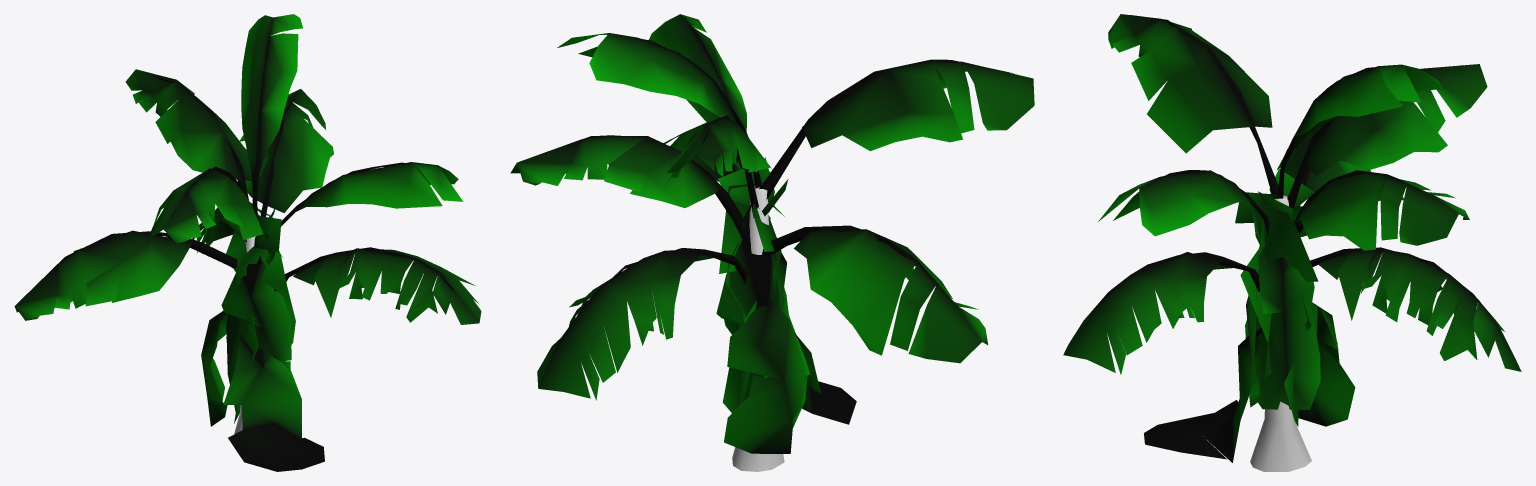
The model's file is BananaTree01_afsTREE_xlprl15_xlod02.fbx.
3 renders of one model, left to right at view 1: azimuth 30°, elevation 25°; view 2: azimuth 150°, elevation 25°; view 3: azimuth 270°, elevation 25°, orthographic. The views are drawn at different scales.
Parts seen in each view (by area): view 1: BananaLeaf_xw05_xt08_xlp04_xp05, DeadBananaLeaf_xw00_xt00_xlp00.003, DyingBranch_xw05_xt08_xlp05_xp05, BananaLeaf_xw10_xt08_xlp06_xp03, BananaLeaf_xw08_xt10_xlp05_xp06, BananaLeaf_xw08_xt08_xlp04, BananaLeaf_xw08_xt12_xlp05_xp09, BananaLeaf_xw07_xt10_xlp05_xp04, DeadBananaLeaf_xw00_xt00_xlp00.001, DeadBananaLeaf_xw00_xt00_xlp00.004, DeadBananaLeaf_xw02_xt02_xlp02_xp10, DeadBananaLeaf_xw00_xt00_xlp00.002 (+2 smaller); view 2: BananaLeaf_xw05_xt08_xlp04_xp05, BananaLeaf_xw07_xt10_xlp05_xp04, DyingBranch_xw05_xt08_xlp03_xp01, BananaLeaf_xw08_xt08_xlp04, DeadBananaLeaf_xw02_xt02_xlp02_xp10, BananaLeaf_xw10_xt08_xlp06_xp03, DeadBananaLeaf_xw00_xt00_xlp00.002, BananaLeaf_xw08_xt10_xlp05_xp06, BananaLeaf_xw08_xt12_xlp05_xp09, DeadBananaLeaf_xw00_xt00_xlp00.003, trunk_bananaTree01_xw05_xt04, DeadBananaLeaf_xw00_xt00_xlp00.005 (+4 smaller); view 3: BananaLeaf_xw07_xt10_xlp05_xp04, DyingBranch_xw05_xt08_xlp03_xp01, DyingBranch_xw05_xt08_xlp05_xp05, BananaLeaf_xw08_xt10_xlp05_xp06, BananaLeaf_xw08_xt08_xlp04, DeadBananaLeaf_xw00_xt00_xlp00, BananaLeaf_xw08_xt12_xlp05_xp09, BananaLeaf_xw10_xt08_xlp06_xp03, DeadBananaLeaf_xw00_xt00_xlp00.003, DeadBananaLeaf_xw02_xt02_xlp02_xp10, trunk_bananaTree01_xw05_xt04, DeadBananaLeaf_xw00_xt00_xlp00.005 (+6 smaller).
Boxes of the visible parts, bbox=[...] form: BananaLeaf_xw05_xt08_xlp04_xp05: bbox=[14, 230, 237, 320]; DeadBananaLeaf_xw00_xt00_xlp00.003: bbox=[223, 333, 324, 471]; DyingBranch_xw05_xt08_xlp05_xp05: bbox=[274, 247, 481, 324]; BananaLeaf_xw10_xt08_xlp06_xp03: bbox=[241, 14, 302, 218]; BananaLeaf_xw08_xt10_xlp05_xp06: bbox=[125, 69, 251, 200]; BananaLeaf_xw08_xt08_xlp04: bbox=[239, 89, 333, 216]; BananaLeaf_xw08_xt12_xlp05_xp09: bbox=[281, 162, 463, 226]; BananaLeaf_xw07_xt10_xlp05_xp04: bbox=[146, 166, 263, 243]; DeadBananaLeaf_xw00_xt00_xlp00.001: bbox=[221, 243, 291, 371]; DeadBananaLeaf_xw00_xt00_xlp00.004: bbox=[226, 225, 295, 344]; DeadBananaLeaf_xw02_xt02_xlp02_xp10: bbox=[201, 310, 228, 426]; DeadBananaLeaf_xw00_xt00_xlp00.002: bbox=[226, 314, 258, 423]; BananaLeaf_xw05_xt08_xlp04_xp05: bbox=[765, 225, 987, 363]; BananaLeaf_xw07_xt10_xlp05_xp04: bbox=[759, 59, 1034, 199]; DyingBranch_xw05_xt08_xlp03_xp01: bbox=[537, 248, 748, 400]; BananaLeaf_xw08_xt08_xlp04: bbox=[510, 135, 750, 246]; DeadBananaLeaf_xw02_xt02_xlp02_xp10: bbox=[724, 299, 805, 453]; BananaLeaf_xw10_xt08_xlp06_xp03: bbox=[557, 33, 761, 188]; DeadBananaLeaf_xw00_xt00_xlp00.002: bbox=[716, 216, 809, 428]; BananaLeaf_xw08_xt10_xlp05_xp06: bbox=[664, 115, 772, 217]; BananaLeaf_xw08_xt12_xlp05_xp09: bbox=[649, 14, 746, 168]; DeadBananaLeaf_xw00_xt00_xlp00.003: bbox=[794, 332, 856, 424]; trunk_bananaTree01_xw05_xt04: bbox=[732, 186, 784, 471]; DeadBananaLeaf_xw00_xt00_xlp00.005: bbox=[719, 183, 770, 273]; BananaLeaf_xw07_xt10_xlp05_xp04: bbox=[1108, 14, 1278, 194]; DyingBranch_xw05_xt08_xlp03_xp01: bbox=[1310, 247, 1521, 371]; DyingBranch_xw05_xt08_xlp05_xp05: bbox=[1063, 252, 1259, 374]; BananaLeaf_xw08_xt10_xlp05_xp06: bbox=[1287, 64, 1487, 209]; BananaLeaf_xw08_xt08_xlp04: bbox=[1294, 170, 1469, 250]; DeadBananaLeaf_xw00_xt00_xlp00: bbox=[1256, 245, 1320, 409]; BananaLeaf_xw08_xt12_xlp05_xp09: bbox=[1098, 170, 1269, 236]; BananaLeaf_xw10_xt08_xlp06_xp03: bbox=[1277, 64, 1442, 198]; DeadBananaLeaf_xw00_xt00_xlp00.003: bbox=[1144, 327, 1262, 462]; DeadBananaLeaf_xw02_xt02_xlp02_xp10: bbox=[1298, 302, 1355, 426]; trunk_bananaTree01_xw05_xt04: bbox=[1250, 195, 1311, 471]; DeadBananaLeaf_xw00_xt00_xlp00.005: bbox=[1252, 203, 1318, 281].
Size of the model in its own units: 5.34 by 4.86 by 5.13.
